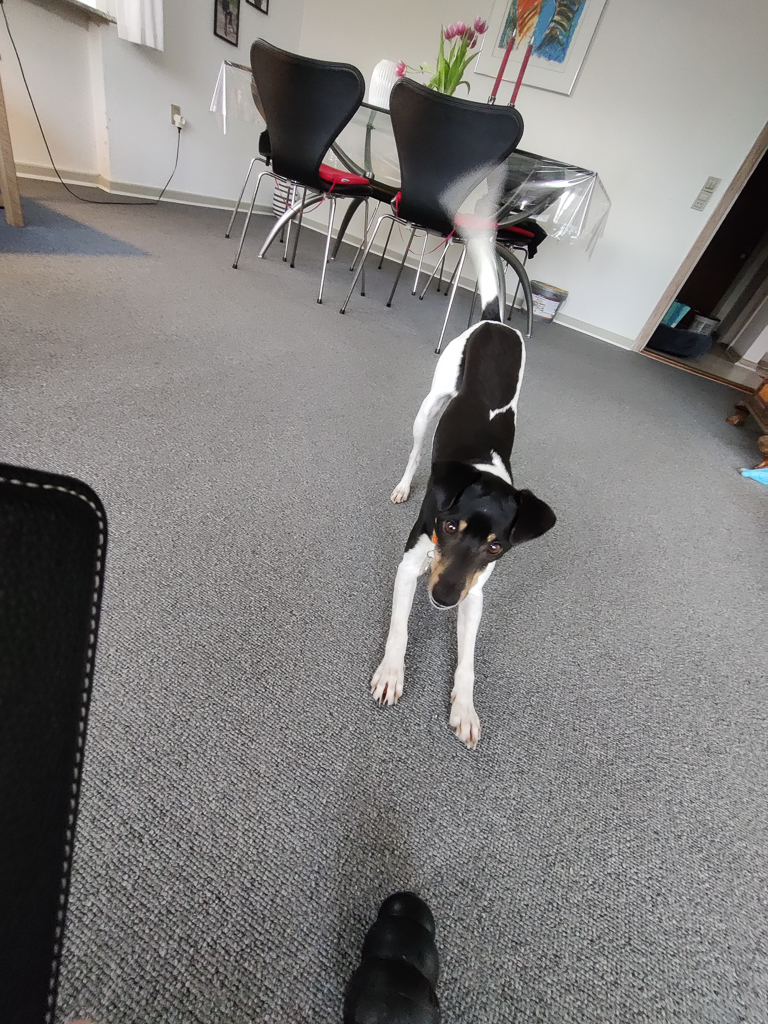Dog: (336, 144, 574, 760)
